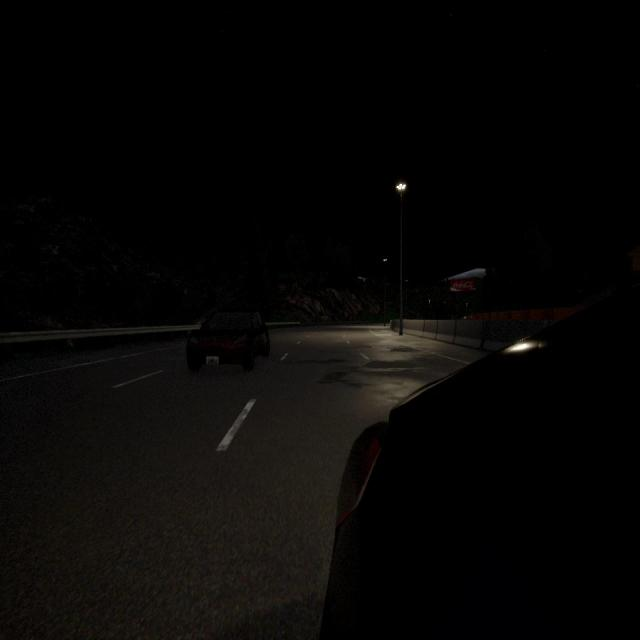Vehicle: (320, 285, 640, 637), (186, 300, 269, 370)
